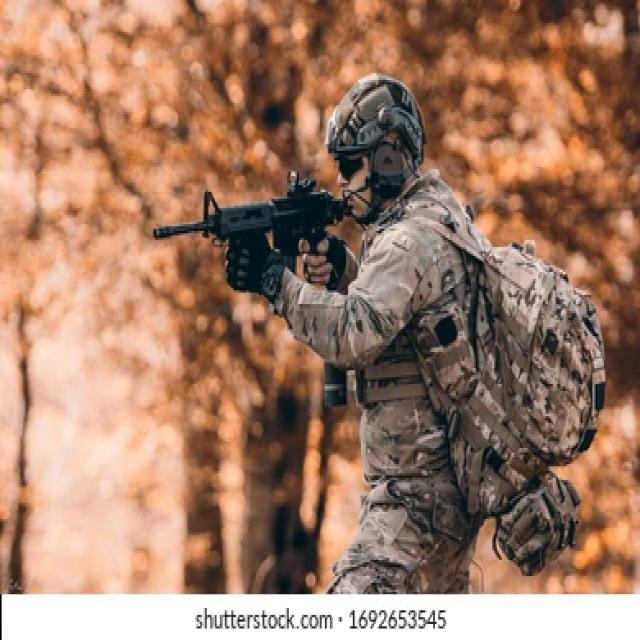soldier: (156, 71, 607, 590)
